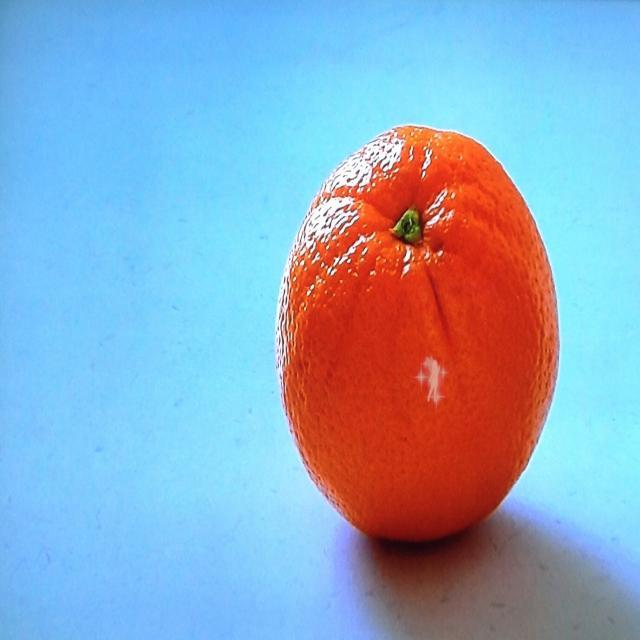Orange: (273, 124, 562, 545)
